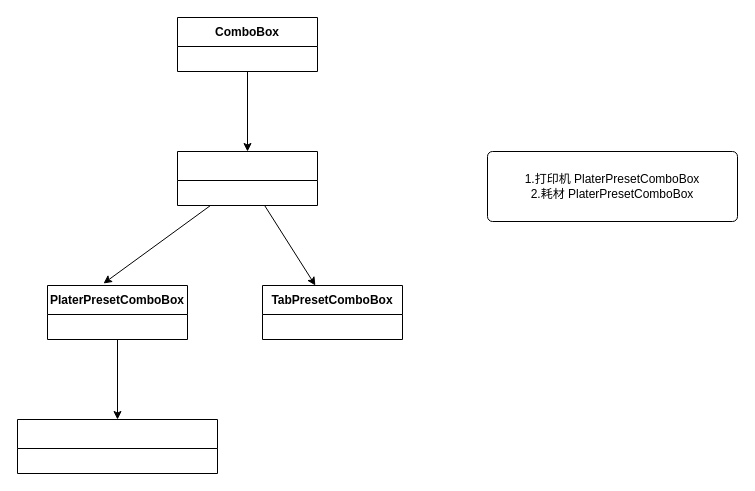
The diagram is 755 pixels wide and 491 high, and some of its shapes have lost their labels. Here are the shapes that lost their labels. From the top down, the centre of each, then its label:
At (x=247, y=178): "PresetComboBox".
At (x=117, y=446): "CalibrateFilamentComboBox".
